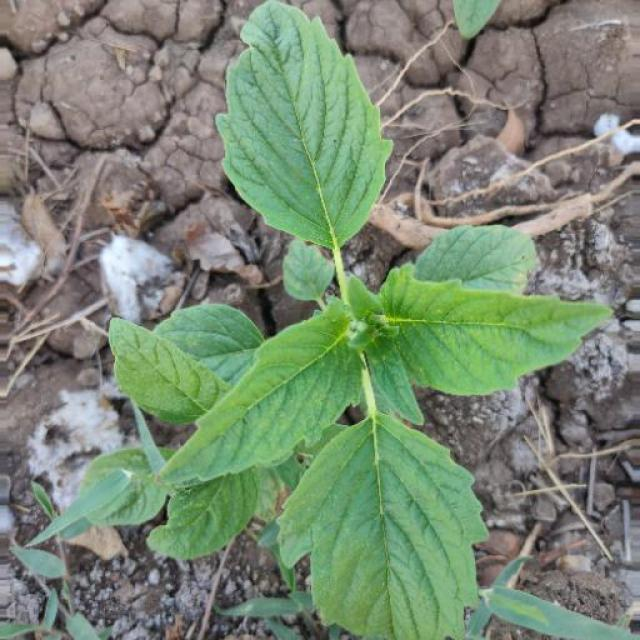crop: (146, 2, 616, 638)
